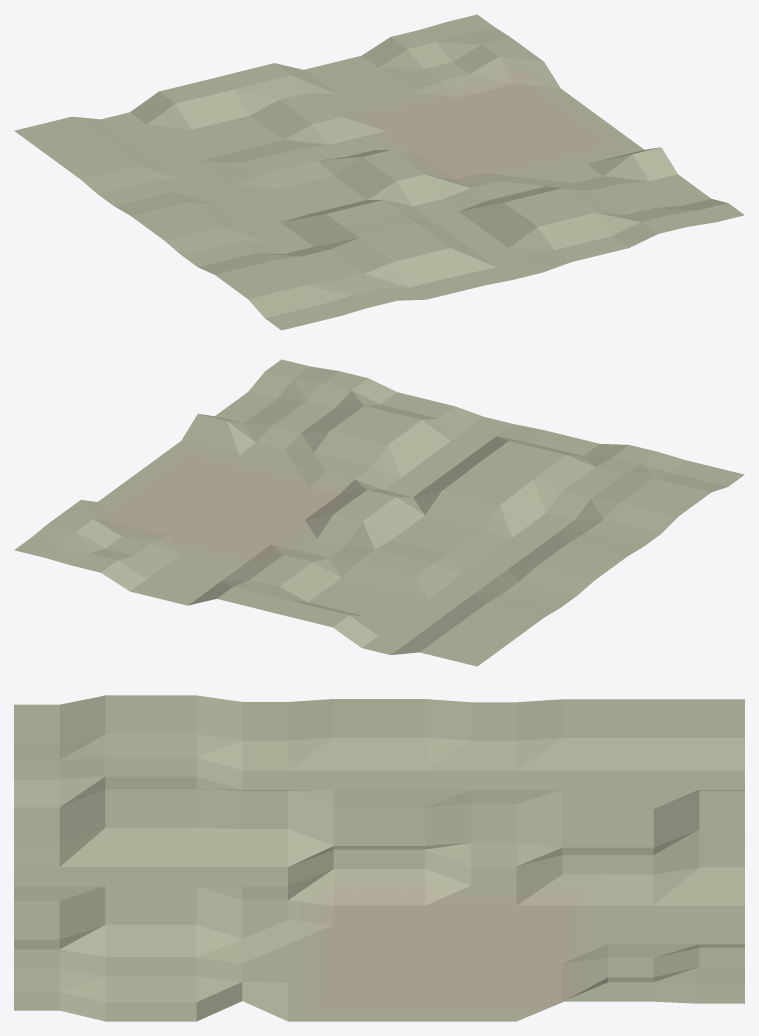
3 renders of one model, top to bottom at view 1: azimuth 30°, elevation 25°; view 2: azimuth 150°, elevation 25°; view 3: azimuth 270°, elevation 25°, orthographic. The views are drawn at different scales.
Bounding box in the file's own units: 32 × 0.9857 × 32.
